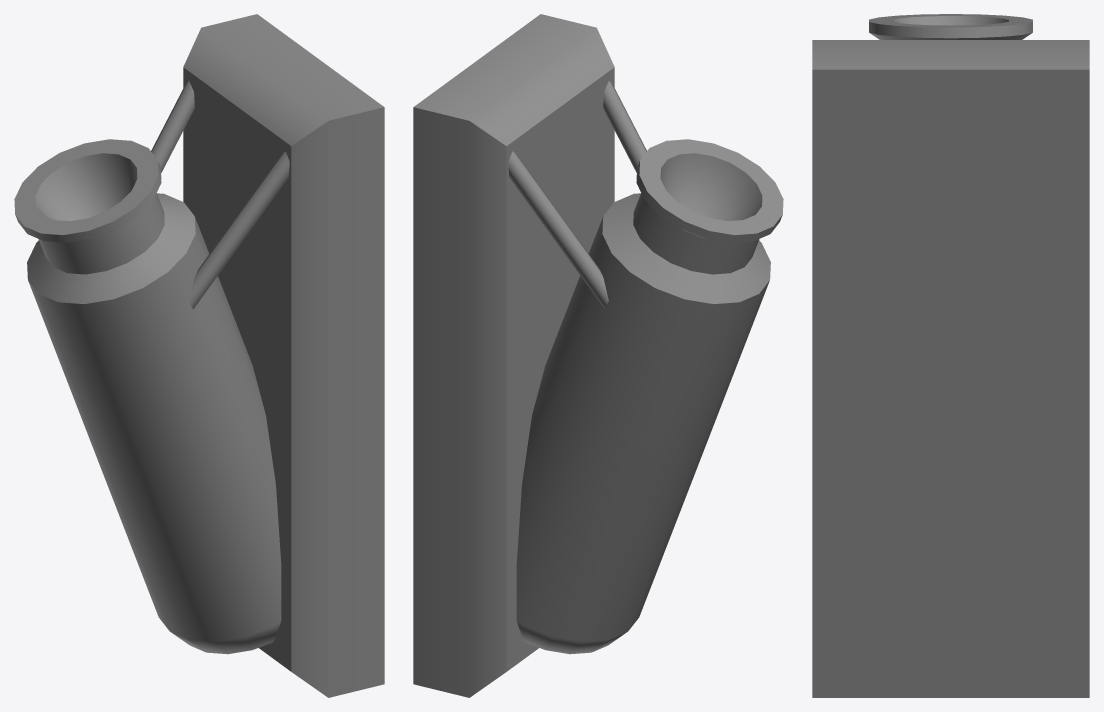
File: Saturn_S1_RetroMotor.dae
3 renders of one model, left to right at view 1: azimuth 30°, elevation 25°; view 2: azimuth 150°, elevation 25°; view 3: azimuth 270°, elevation 25°, orthographic. The views are drawn at different scales.
Parts seen in each view (by area): view 1: RetroRocket2; view 2: RetroRocket2; view 3: RetroRocket2.
Boxes of the visible parts, <box> form: RetroRocket2: <box>14,14,384,697</box>; RetroRocket2: <box>413,14,783,697</box>; RetroRocket2: <box>812,14,1089,697</box>.
Size of the model in its own units: 0.3359 by 0.625 by 0.2499.
